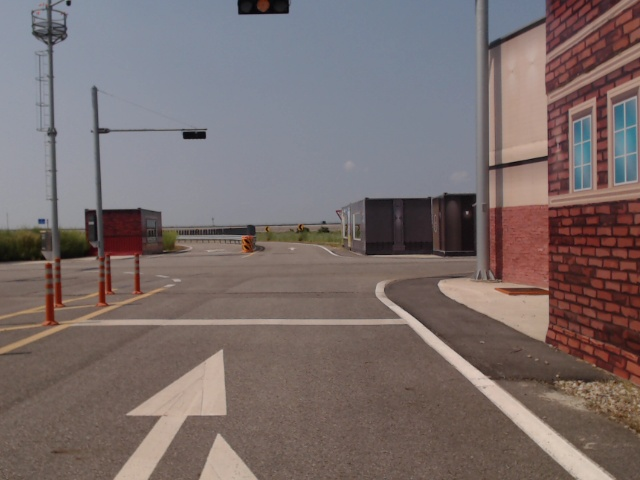orange_3: (238, 0, 291, 15)
